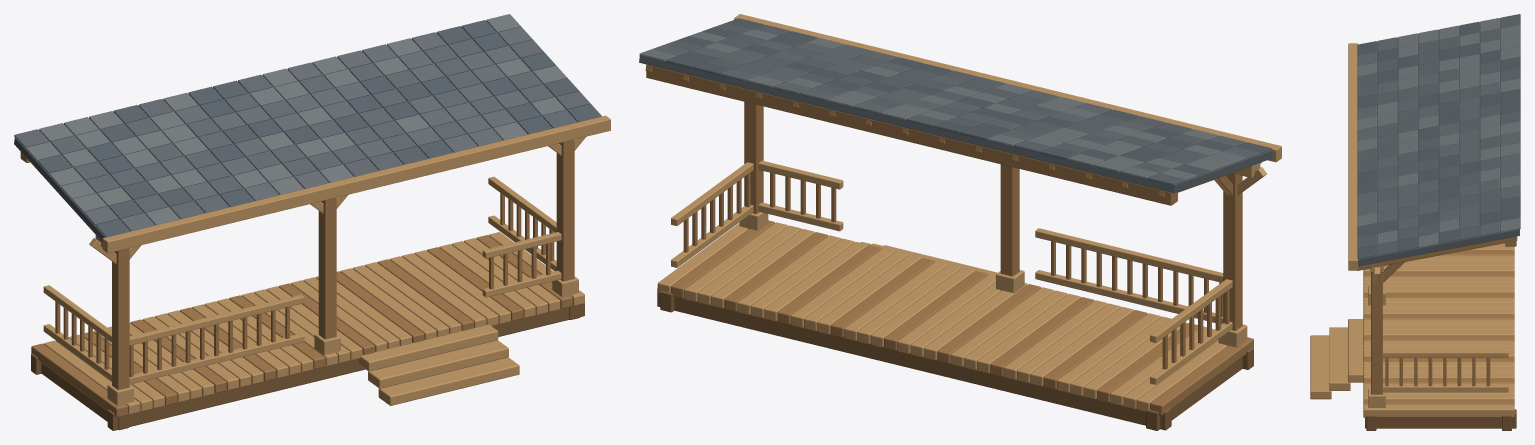
Rendered from SM_PlayerHouse_FrontPorch.fbx.
3 renders of one model, left to right at view 1: azimuth 30°, elevation 25°; view 2: azimuth 150°, elevation 25°; view 3: azimuth 270°, elevation 25°, orthographic. The views are drawn at different scales.
Parts seen in each view (by area): view 1: SM_PlayerHouse_FrontPorch; view 2: SM_PlayerHouse_FrontPorch; view 3: SM_PlayerHouse_FrontPorch.
Boxes of the visible parts, x1,y1,x2,y2 form: SM_PlayerHouse_FrontPorch: [14, 14, 610, 430]; SM_PlayerHouse_FrontPorch: [639, 14, 1281, 430]; SM_PlayerHouse_FrontPorch: [1310, 14, 1520, 430].
Size of what is drawn, in the model's own units: 817 by 334 by 383.
